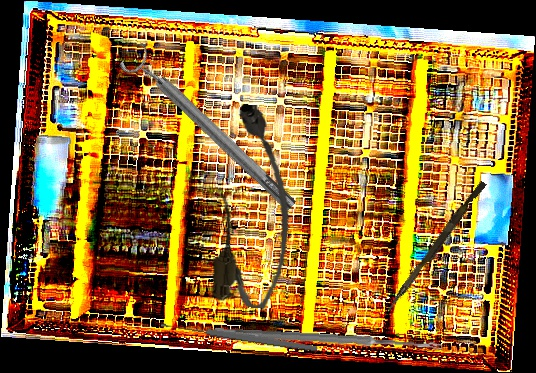Cannula: (209, 102, 301, 311)
Fixation Ring: (117, 39, 304, 221)
Pusher: (386, 178, 487, 315)
Surgical Spoon: (160, 319, 318, 354), (214, 328, 443, 351)
